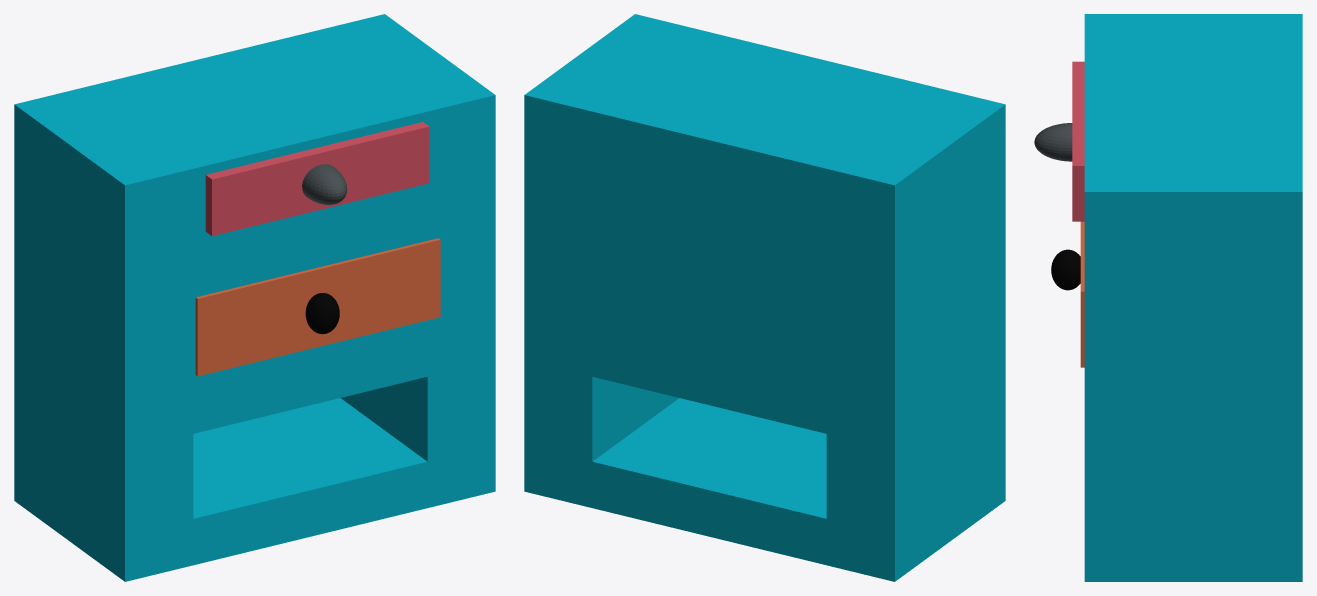
3 views of the same model, side by side, from view 1: azimuth 30°, elevation 25°; view 2: azimuth 150°, elevation 25°; view 3: azimuth 270°, elevation 25° (orthographic).
Parts seen in each view (by area): view 1: Mesh_Mesh_head_geo.001_lambert2SG.001; view 2: Mesh_Mesh_head_geo.001_lambert2SG.001; view 3: Mesh_Mesh_head_geo.001_lambert2SG.001.
Boxes of the visible parts, box(x1,y1,x2,y2) form: Mesh_Mesh_head_geo.001_lambert2SG.001: box(14, 14, 495, 581); Mesh_Mesh_head_geo.001_lambert2SG.001: box(524, 14, 1005, 581); Mesh_Mesh_head_geo.001_lambert2SG.001: box(1034, 14, 1302, 581).
Size of the model in its own units: 100 by 102 by 63.8.
